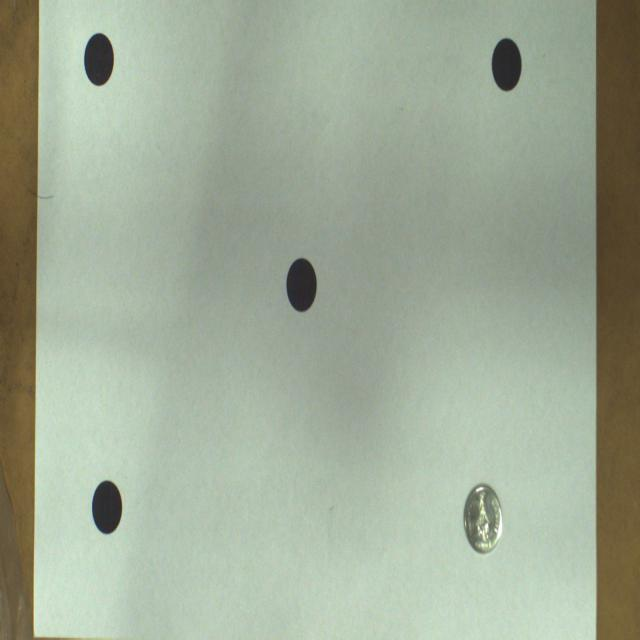space: (84, 33, 114, 87), (286, 258, 316, 311), (92, 480, 122, 533), (492, 38, 521, 91)
tail1bath: (464, 484, 502, 553)
